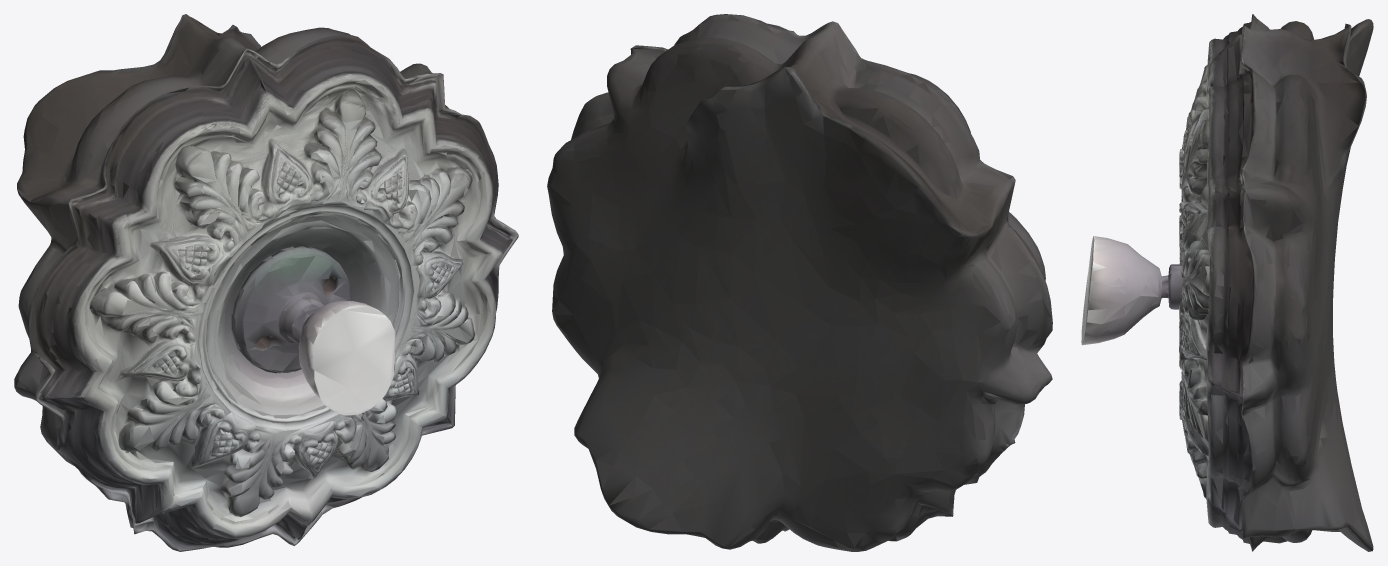
File: roseta.fbx
The picture shows the model from 3 angles, left to right: view 1: azimuth 30°, elevation 25°; view 2: azimuth 150°, elevation 25°; view 3: azimuth 270°, elevation 25°; orthographic projection. The views are drawn at different scales.
Visible parts, largest first — view 1: tripo_node_54ae9ac3; view 2: tripo_node_54ae9ac3; view 3: tripo_node_54ae9ac3.
Boxes of the visible parts, x1=… form: tripo_node_54ae9ac3: x1=14, y1=14, x2=518, y2=551; tripo_node_54ae9ac3: x1=547, y1=14, x2=1052, y2=551; tripo_node_54ae9ac3: x1=1081, y1=14, x2=1373, y2=551.
Bounding box in the file's own units: 98.07 × 97.97 × 52.39.
